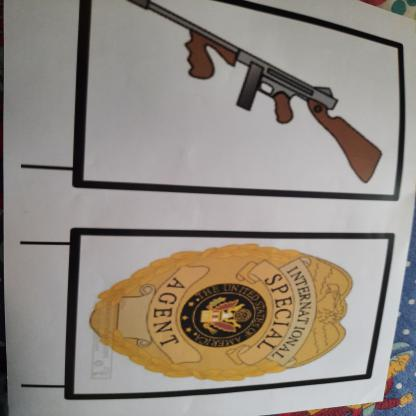Bootlegger: (96, 2, 399, 192)
G-man: (85, 234, 362, 388)
